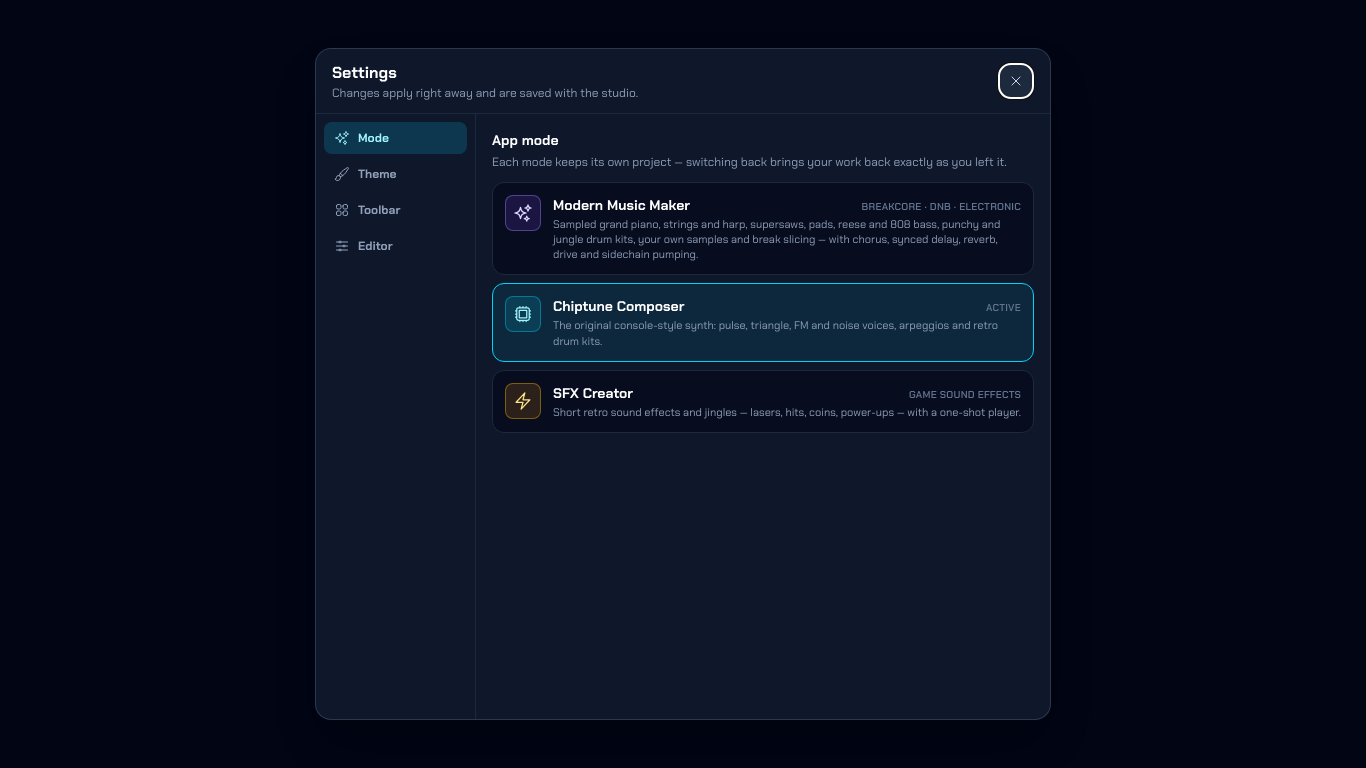
Test case: studio themes › switches theme from the Settings dialog
Later steps or results of the test are not shown.
Click the button "Theme".
click(396, 174)  # box [324, 158, 467, 190]
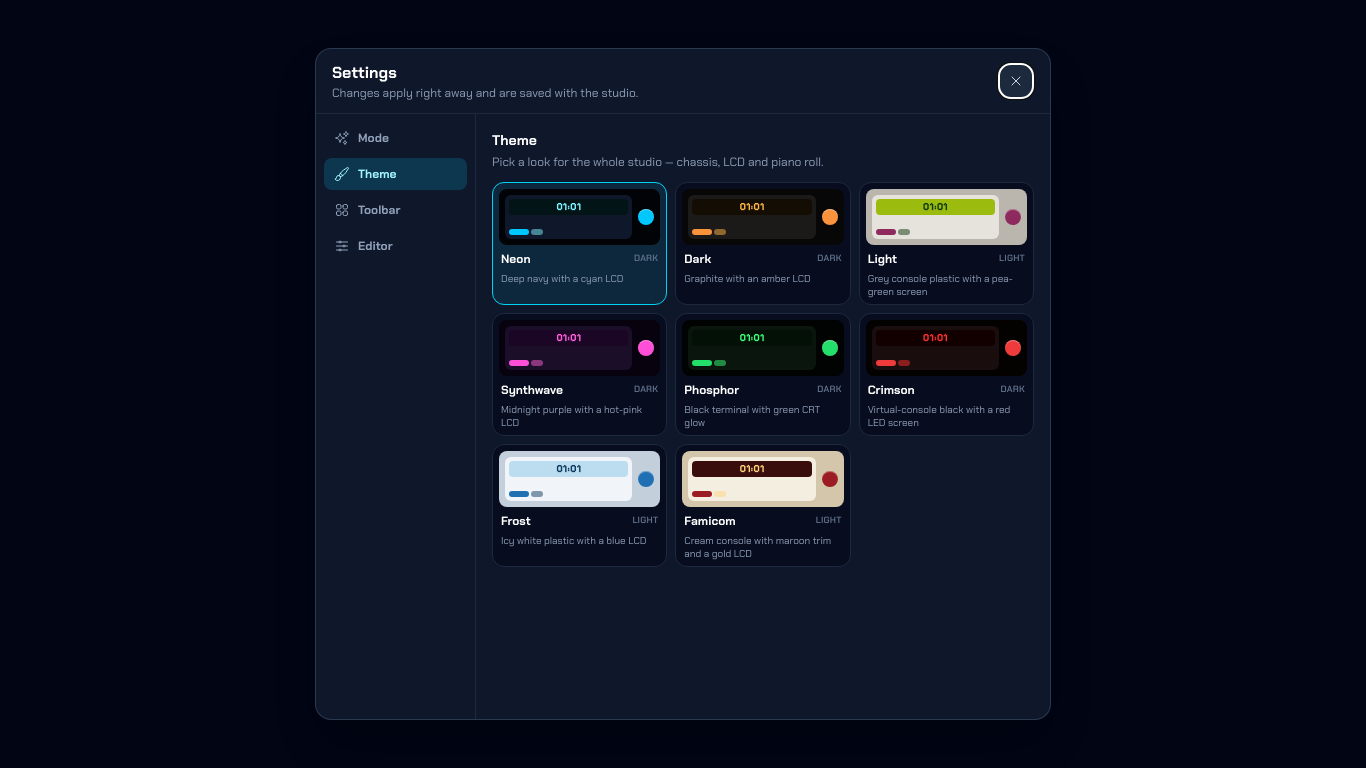
Now the radio button with aria-label "neon theme" is checked, box [492, 182, 667, 305]
